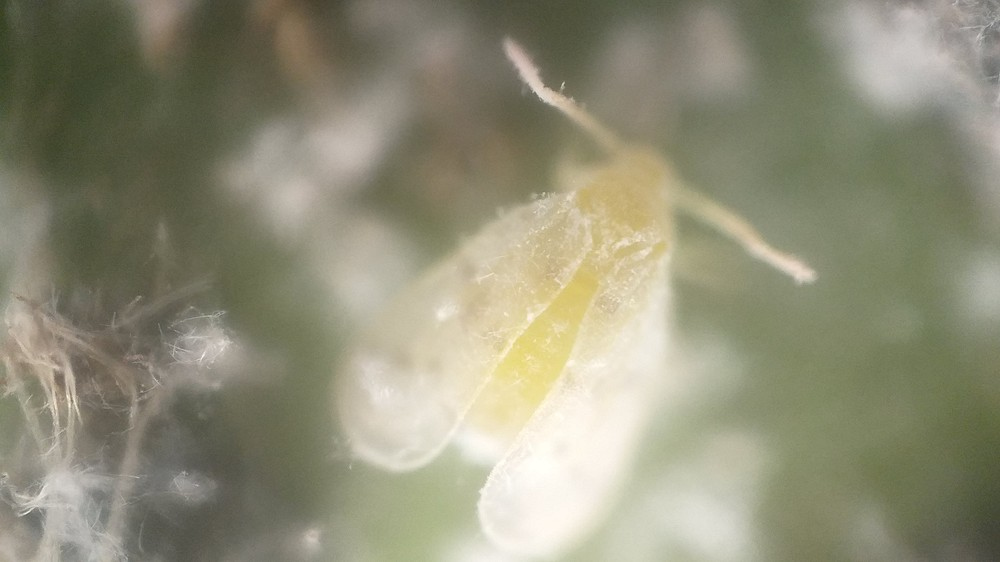Mosca Blanca: (323, 32, 830, 558)
